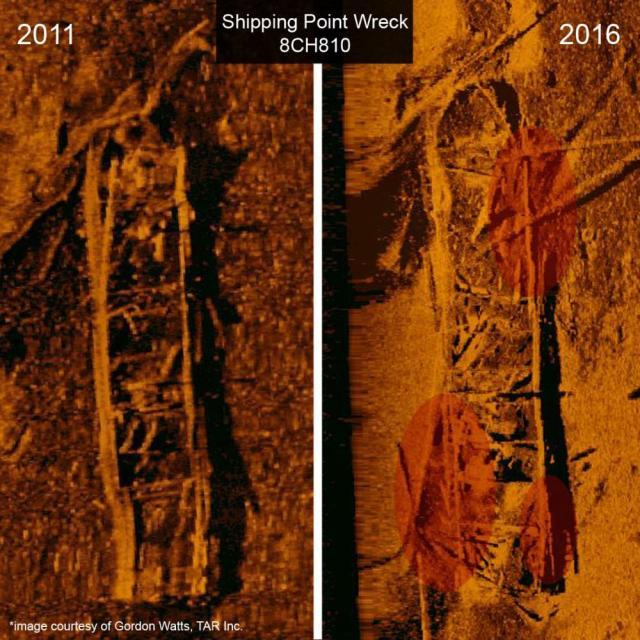shipwreck: (82, 111, 235, 611), (426, 82, 570, 600)
